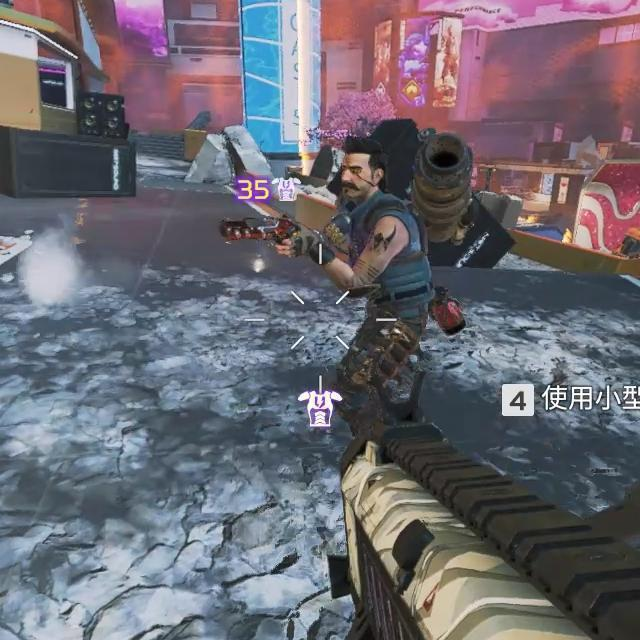avatar: (329, 136, 436, 421)
